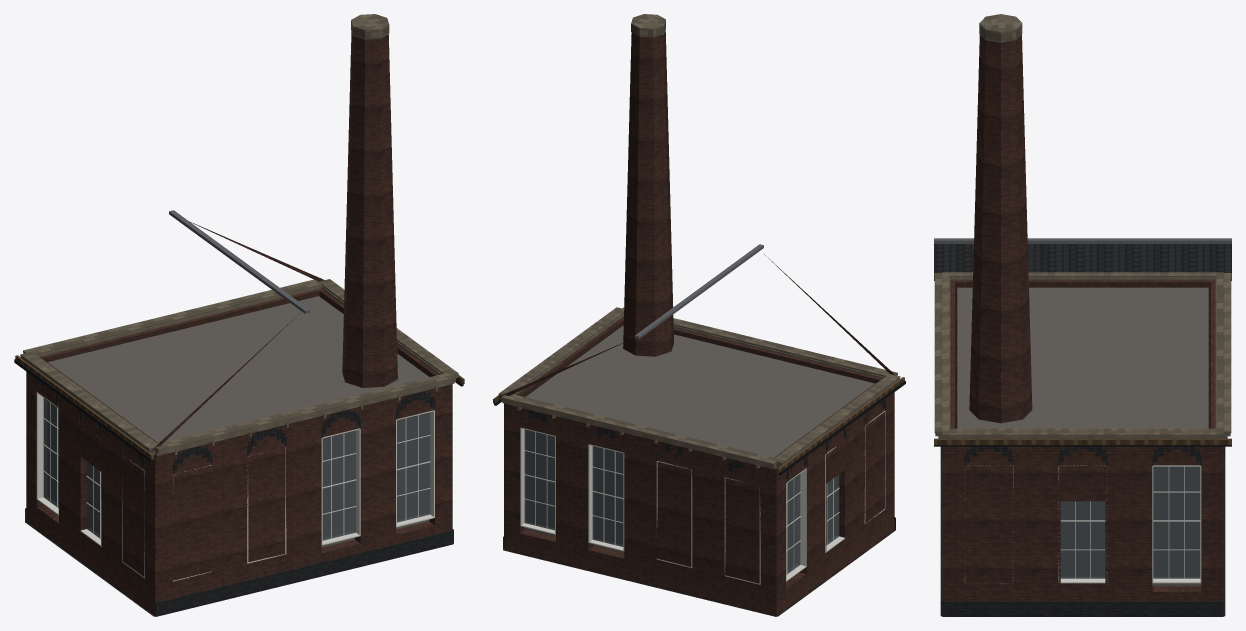
Rendered from B_pump_house.glb.
3 renders of one model, left to right at view 1: azimuth 30°, elevation 25°; view 2: azimuth 150°, elevation 25°; view 3: azimuth 270°, elevation 25°, orthographic. The views are drawn at different scales.
Visible parts, largest first — view 1: B_pump_house; view 2: B_pump_house; view 3: B_pump_house.
Boxes of the visible parts, left/top/right/bottom form: B_pump_house: left=14, top=14, right=464, bottom=616; B_pump_house: left=493, top=14, right=905, bottom=616; B_pump_house: left=934, top=14, right=1231, bottom=616.
Bounding box in the file's own units: 16.89 × 26.5 × 12.7.
Materials: 10 (6 with a texture image).
